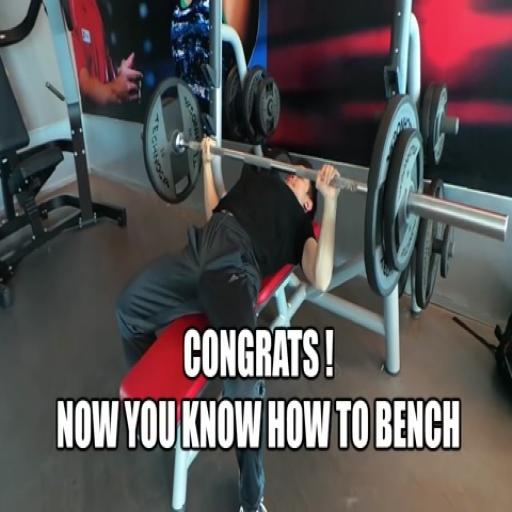exercise: (113, 134, 342, 510), (165, 0, 262, 132)
